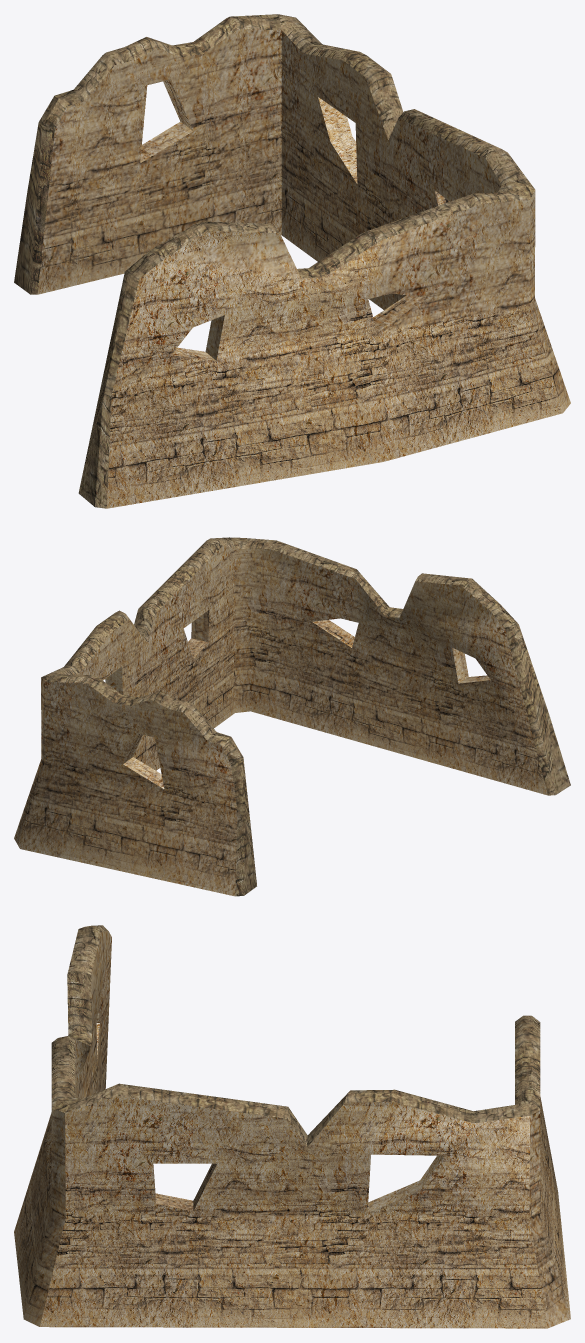
The model's file is Ruins_Wall_03.fbx.
The picture shows the model from 3 angles, top to bottom: view 1: azimuth 30°, elevation 25°; view 2: azimuth 150°, elevation 25°; view 3: azimuth 270°, elevation 25°; orthographic projection. The views are drawn at different scales.
Visible parts, largest first — view 1: Ruins_Wall_03; view 2: Ruins_Wall_03; view 3: Ruins_Wall_03.
Boxes of the visible parts, box(x1,y1,x2,y2) form: Ruins_Wall_03: box(14, 14, 570, 508); Ruins_Wall_03: box(14, 537, 570, 896); Ruins_Wall_03: box(14, 925, 570, 1328).
Size of the model in its own units: 6.13 by 3.07 by 6.52.
Materials: 2 (2 with a texture image).
